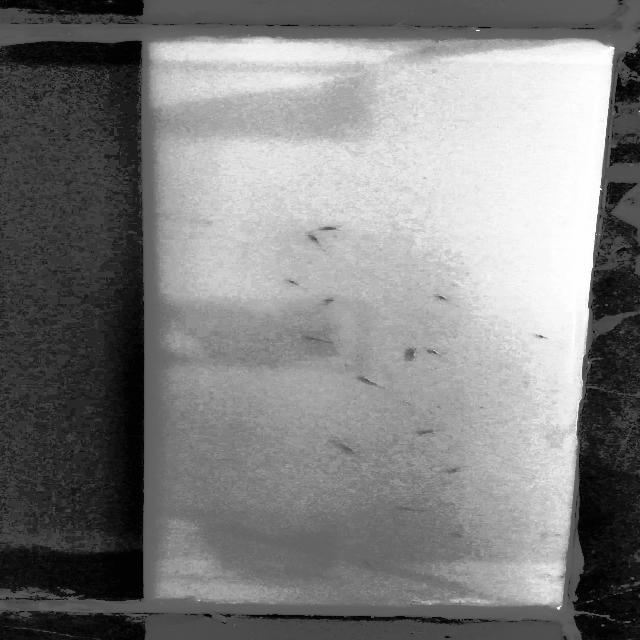shrimp: (336, 371, 395, 390), (401, 422, 443, 442), (424, 344, 456, 364), (384, 500, 427, 514), (348, 558, 391, 572), (518, 329, 560, 343), (303, 221, 354, 232), (302, 232, 328, 251), (295, 332, 336, 344), (400, 343, 422, 363), (429, 289, 454, 306), (332, 442, 362, 455), (278, 274, 304, 288), (436, 466, 468, 476)
